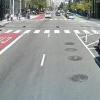Crosswalk: (10, 21, 100, 42)
